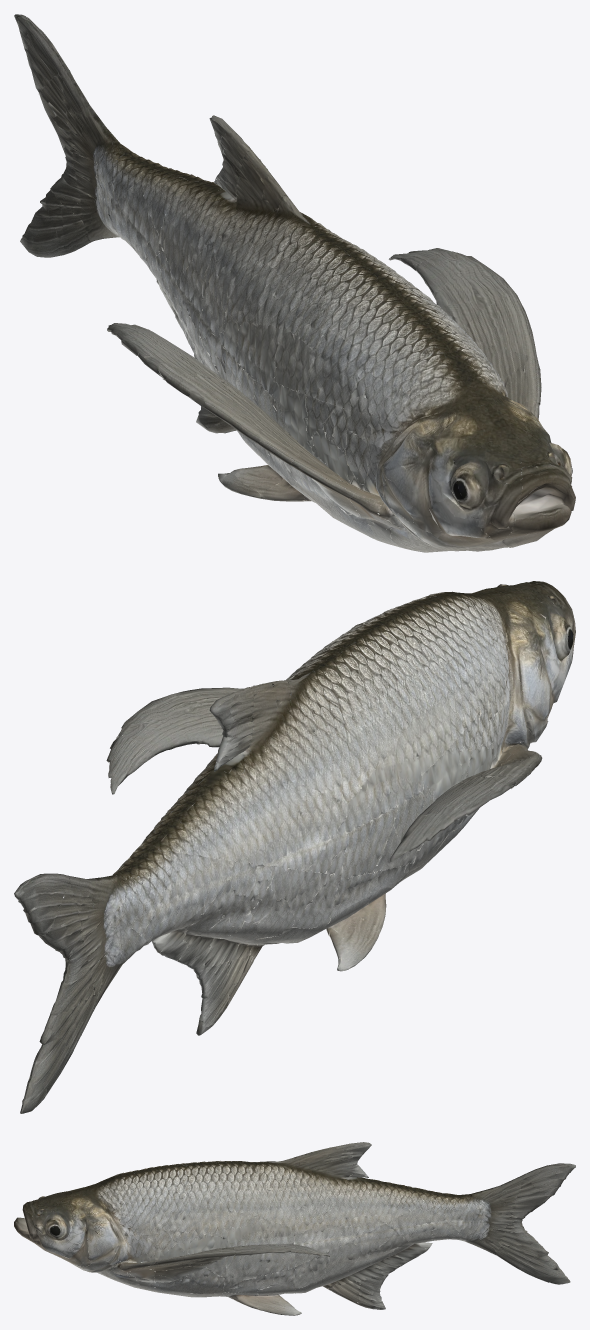
Rendered from ciosa.glb.
3 renders of one model, top to bottom at view 1: azimuth 30°, elevation 25°; view 2: azimuth 150°, elevation 25°; view 3: azimuth 270°, elevation 25°, orthographic. The views are drawn at different scales.
Parts seen in each view (by area): view 1: Mesh_0; view 2: Mesh_0; view 3: Mesh_0.
Boxes of the visible parts, <box> form: Mesh_0: <box>14,14,575,552</box>; Mesh_0: <box>14,581,575,1113</box>; Mesh_0: <box>14,1142,575,1315</box>.
Bounding box in the file's own units: 0.7238 × 0.6257 × 1.9.
1 material, 1 textured.
